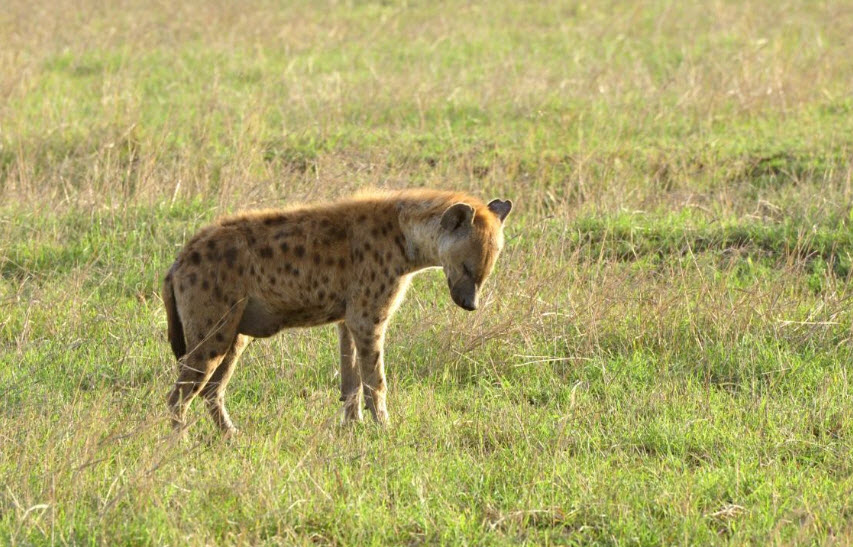hyena: (159, 184, 516, 429)
